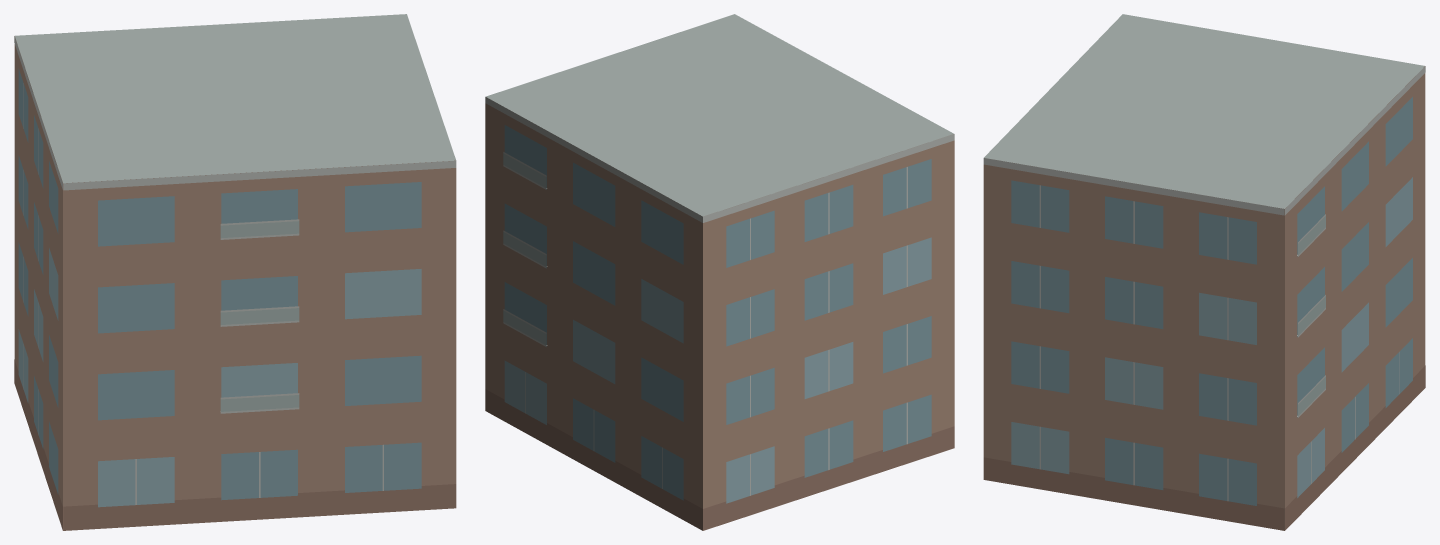
The model's file is survey-upis-32750368.glb.
The picture shows the model from 3 angles, left to right: view 1: azimuth 30°, elevation 25°; view 2: azimuth 150°, elevation 25°; view 3: azimuth 270°, elevation 25°; orthographic projection. The views are drawn at different scales.
Visible parts, largest first — view 1: survey-upis-32750368.tmp; view 2: survey-upis-32750368.tmp; view 3: survey-upis-32750368.tmp.
Part boxes in pixels (x1,y1,x2,y2): survey-upis-32750368.tmp: (14,14,456,530); survey-upis-32750368.tmp: (485,14,954,530); survey-upis-32750368.tmp: (983,14,1425,530).
Bounding box in the file's own units: 15.31 × 11.78 × 14.66.
